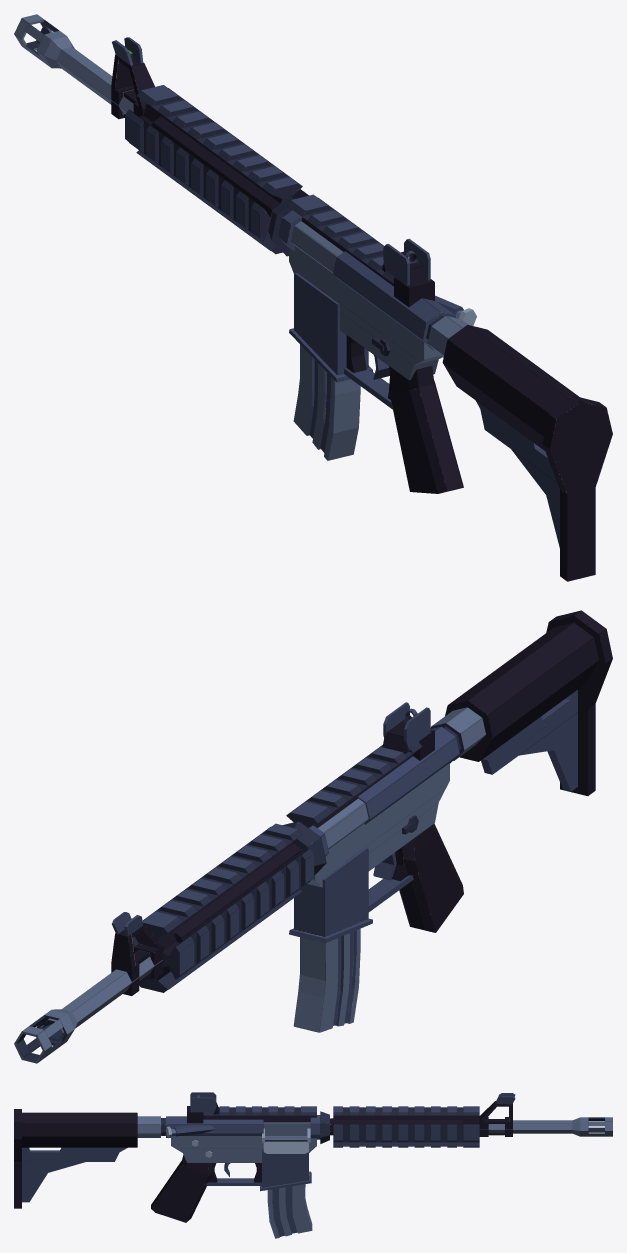
3 renders of one model, top to bottom at view 1: azimuth 30°, elevation 25°; view 2: azimuth 150°, elevation 25°; view 3: azimuth 270°, elevation 25°, orthographic. The views are drawn at different scales.
Visible parts, largest first — view 1: cuboid, cylinder; view 2: cuboid, cylinder; view 3: cuboid, cylinder.
Part boxes in pixels (bbox=[...]): cuboid: bbox=[111, 37, 559, 547]; cylinder: bbox=[14, 14, 612, 581]; cuboid: bbox=[111, 690, 577, 1032]; cylinder: bbox=[14, 610, 612, 1063]; cuboid: bbox=[22, 1092, 515, 1238]; cylinder: bbox=[14, 1095, 612, 1208].
Bounding box in the file's own units: 0.3369 × 1.19 × 4.61.
Materials: 1 (1 with a texture image).
